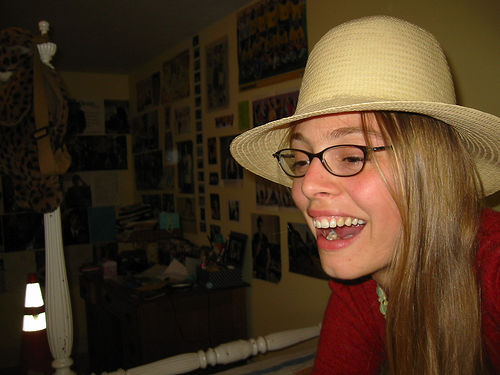without_mask: (280, 117, 413, 287)
